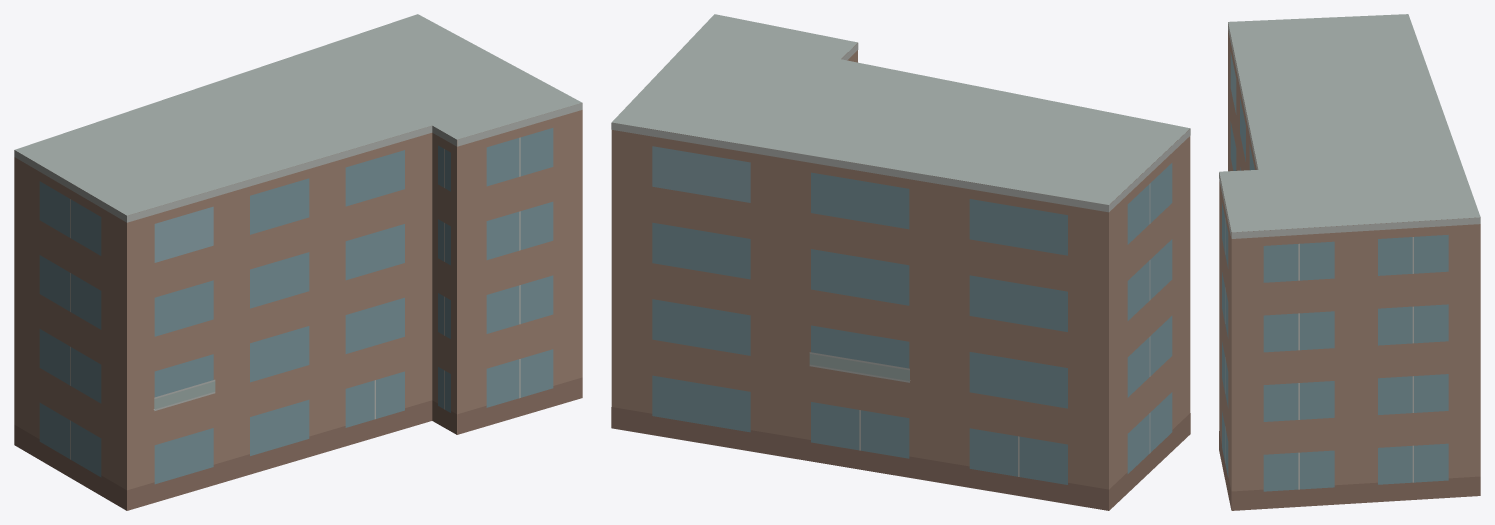
The model's file is survey-upis-32473027.glb.
3 renders of one model, left to right at view 1: azimuth 30°, elevation 25°; view 2: azimuth 150°, elevation 25°; view 3: azimuth 270°, elevation 25°, orthographic. The views are drawn at different scales.
Visible parts, largest first — view 1: survey-upis-32473027.tmp; view 2: survey-upis-32473027.tmp; view 3: survey-upis-32473027.tmp.
Part boxes in pixels (x1,y1,x2,y2): survey-upis-32473027.tmp: [14, 14, 582, 510]; survey-upis-32473027.tmp: [611, 14, 1190, 510]; survey-upis-32473027.tmp: [1219, 14, 1480, 510].
Size of the model in its own units: 17.17 by 10.2 by 8.69.
